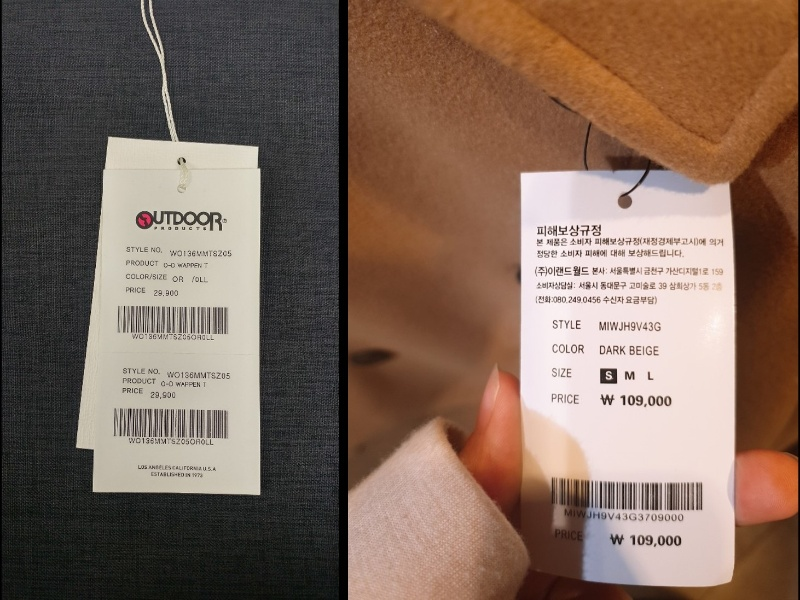tag: (516, 171, 735, 588), (90, 167, 260, 495)
text: (534, 265, 724, 306), (532, 236, 725, 259), (559, 507, 689, 525), (133, 461, 219, 483), (599, 389, 674, 410), (606, 530, 682, 548), (595, 342, 663, 359), (532, 222, 607, 237), (596, 316, 662, 333), (128, 332, 216, 344), (127, 437, 218, 446), (167, 248, 235, 260), (163, 369, 232, 380), (158, 377, 209, 391), (159, 259, 208, 273), (549, 340, 587, 356), (118, 365, 163, 377), (546, 390, 582, 405), (550, 318, 582, 334), (124, 244, 163, 257), (124, 256, 161, 269), (124, 271, 167, 282), (171, 274, 212, 284), (147, 389, 178, 402), (549, 364, 575, 379), (120, 376, 159, 385), (150, 287, 180, 298), (124, 282, 147, 296), (116, 385, 148, 395)
